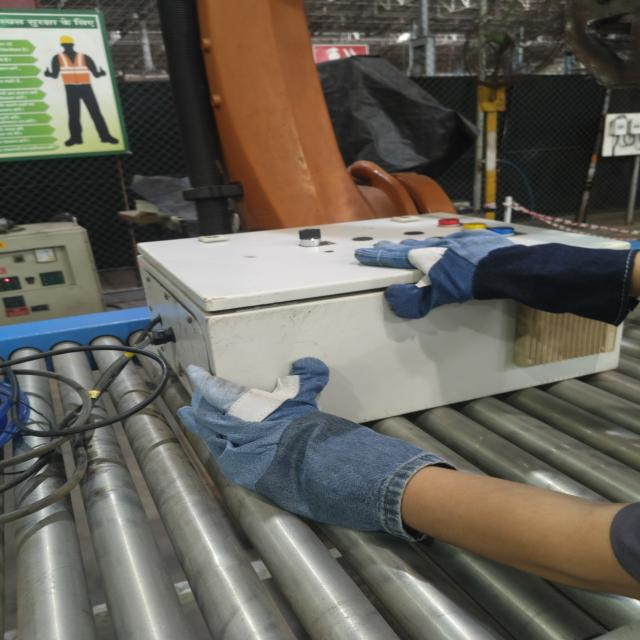Gloves-Detection: (190, 360, 428, 534), (362, 240, 638, 323)
